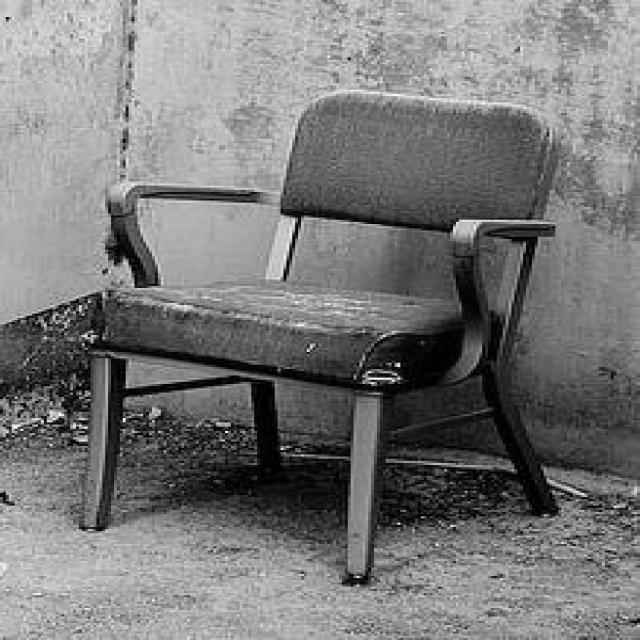chair: (80, 90, 576, 583)
